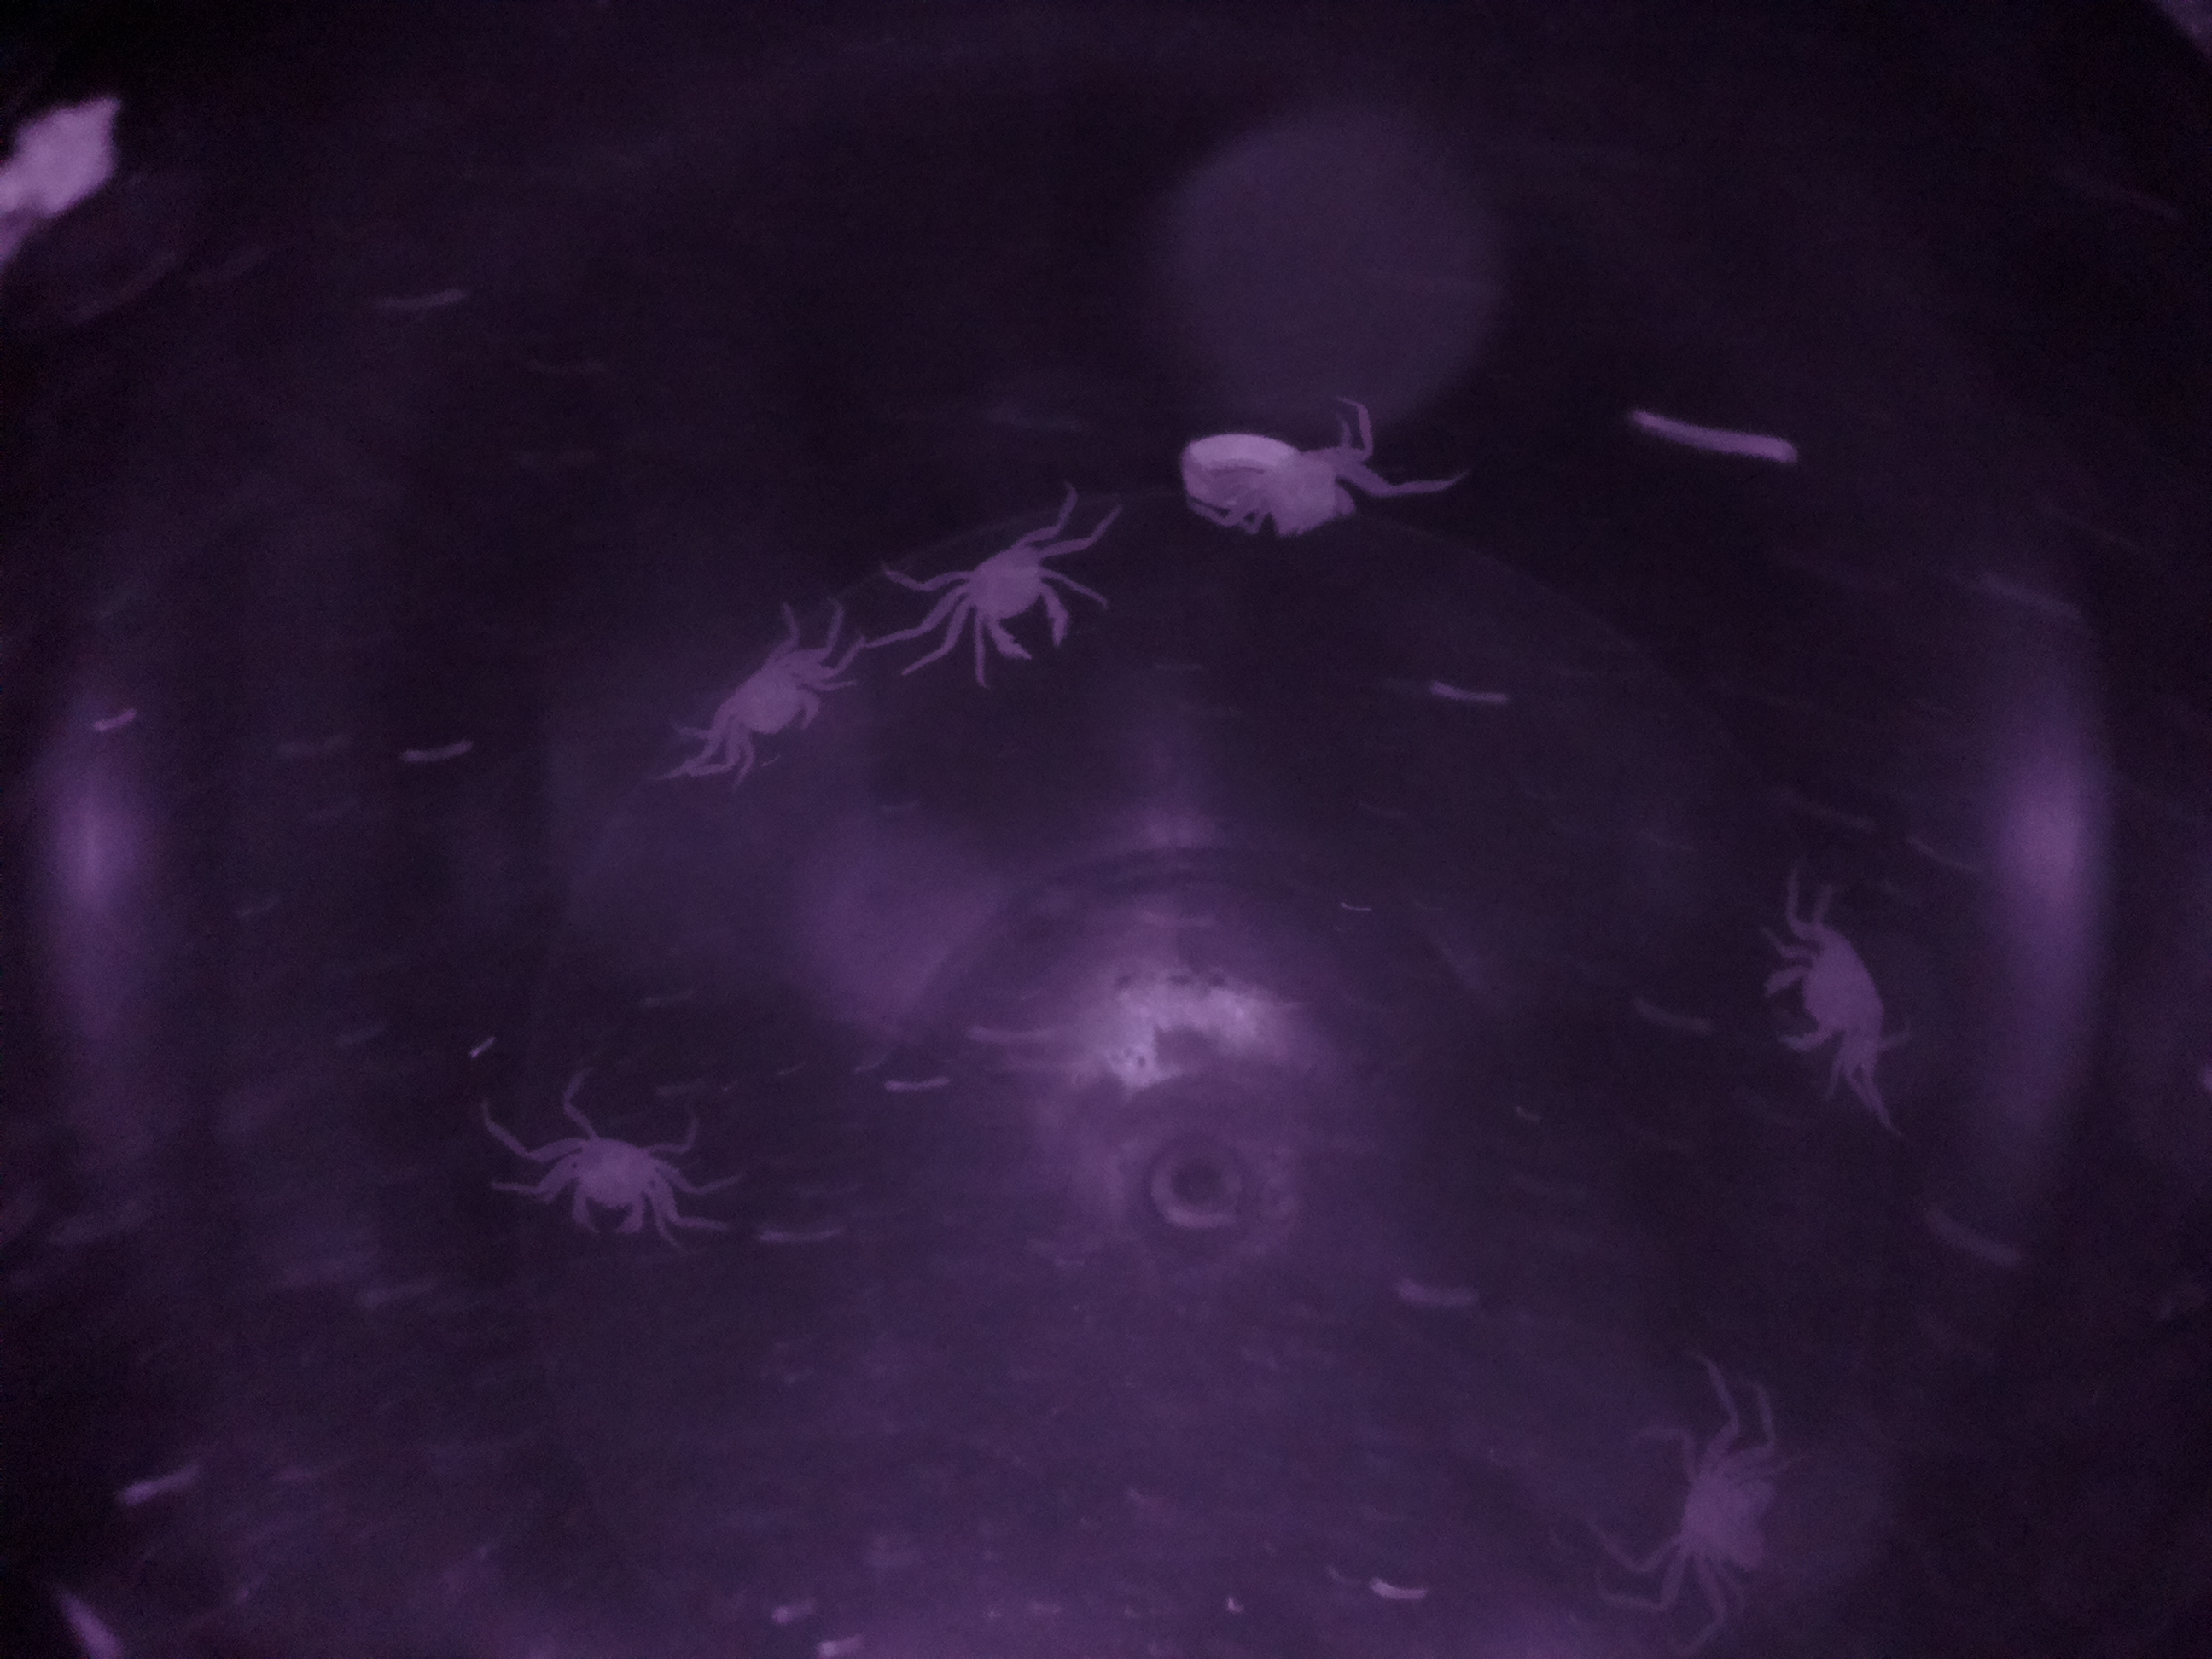Crab: (1616, 1375, 1799, 1621), (1742, 899, 1916, 1093), (514, 1087, 691, 1253), (685, 606, 840, 791), (937, 502, 1089, 683)
